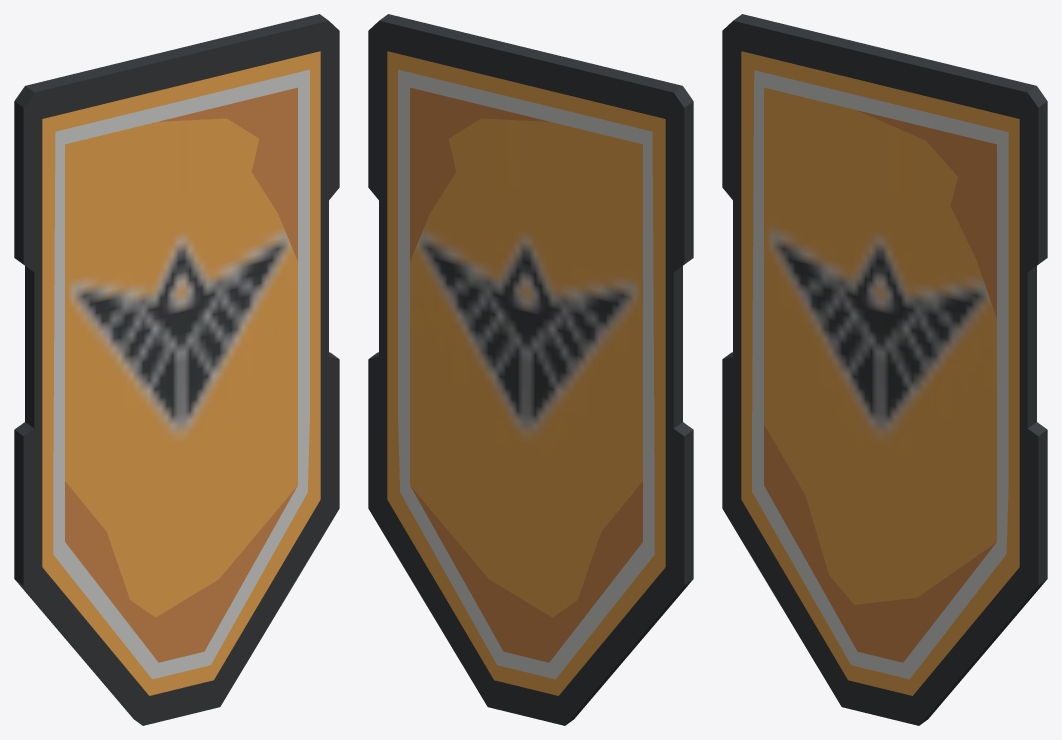
Rendered from worlds_SM_Prop_Banner_01_H.gltf.
3 renders of one model, left to right at view 1: azimuth 30°, elevation 25°; view 2: azimuth 150°, elevation 25°; view 3: azimuth 330°, elevation 25°, orthographic.
Parts seen in each view (by area): view 1: SM_Prop_Banner_01_H; view 2: SM_Prop_Banner_01_H; view 3: SM_Prop_Banner_01_H.
Part boxes in pixels (box(x1,y1,x2,y2)): SM_Prop_Banner_01_H: box(14, 14, 339, 725); SM_Prop_Banner_01_H: box(368, 14, 693, 725); SM_Prop_Banner_01_H: box(722, 14, 1047, 725).
Bounding box in the file's own units: 0.9528 × 1.9 × 0.048.
Materials: 1 (1 with a texture image).
